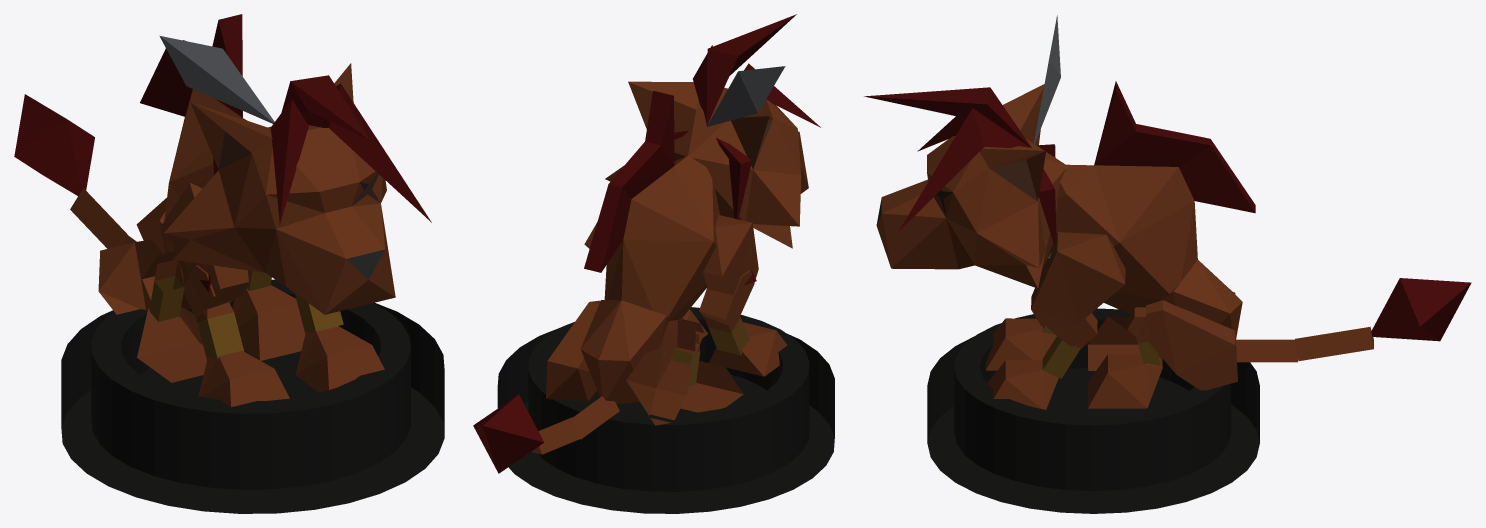
Rendered from Red.obj.
The picture shows the model from 3 angles, left to right: view 1: azimuth 30°, elevation 25°; view 2: azimuth 150°, elevation 25°; view 3: azimuth 270°, elevation 25°; orthographic projection. The views are drawn at different scales.
Visible parts, largest first — view 1: Mesh.033_Cylinder_Cylinder_Material.001, Mesh.014_Converte_0_96_43_.001_Converte_0_96_43_.001_96_43_1A.00, Mesh.032_Converte_0_96_43_.001_Converte_0_96_43_.001_66_05_05.00, Mesh.004_Converte_0_66_05__Converte_0_66_05__66_05_05.002, Mesh.006_Converte_0_96_43_.010_Converte_0_96_43_.014_96_43_1A.01, Mesh.025_Converte_0_96_43_.001_Converte_0_96_43_.001_85_88_8E, Mesh.018_Converte_0_96_43_.004_Converte_0_96_43_.005_96_43_1A.00, Mesh.005_Converte_0_96_43_.013_Converte_0_96_43_.012_96_43_1A.01, Mesh.013_Converte_0_96_43_.008_Converte_0_96_43_.009_96_43_1A.01, Mesh.001_Converte_0_96_43_.015_Converte_0_96_43_.015_96_43_1A.01, Mesh.021_Converte_0_66_05_05_Converte_0_66_05_05_66_05_05, Mesh.011_Converte_0_66_05_05_Converte_0_66_05_05_96_43_1A.001 (+11 smaller); view 2: Mesh.033_Cylinder_Cylinder_Material.001, Mesh.011_Converte_0_66_05_05_Converte_0_66_05_05_96_43_1A.001, Mesh.014_Converte_0_96_43_.001_Converte_0_96_43_.001_96_43_1A.00, Mesh.017_Converte_0_96_43_1A_Converte_0_96_43_1A_96_43_1A, Mesh.021_Converte_0_66_05_05_Converte_0_66_05_05_66_05_05, Mesh.032_Converte_0_96_43_.001_Converte_0_96_43_.001_66_05_05.00, Mesh.001_Converte_0_96_43_.015_Converte_0_96_43_.015_96_43_1A.01, Mesh.004_Converte_0_66_05__Converte_0_66_05__66_05_05.002, Mesh.030_Converte_0_96_43_.003_Converte_0_96_43_.010_96_43_1A.01, Mesh.026_Converte_0_96_43_.005_Converte_0_96_43_.006_96_43_1A.00, Mesh.025_Converte_0_96_43_.001_Converte_0_96_43_.001_85_88_8E, Mesh.013_Converte_0_96_43_.008_Converte_0_96_43_.009_96_43_1A.01 (+6 smaller); view 3: Mesh.033_Cylinder_Cylinder_Material.001, Mesh.014_Converte_0_96_43_.001_Converte_0_96_43_.001_96_43_1A.00, Mesh.011_Converte_0_66_05_05_Converte_0_66_05_05_96_43_1A.001, Mesh.032_Converte_0_96_43_.001_Converte_0_96_43_.001_66_05_05.00, Mesh.021_Converte_0_66_05_05_Converte_0_66_05_05_66_05_05, Mesh_Converte_0_96_43__Converte_0_96_43_.002_96_43_1A.003, Mesh.030_Converte_0_96_43_.003_Converte_0_96_43_.010_96_43_1A.01, Mesh.004_Converte_0_66_05__Converte_0_66_05__66_05_05.002, Mesh.006_Converte_0_96_43_.010_Converte_0_96_43_.014_96_43_1A.01, Mesh.017_Converte_0_96_43_1A_Converte_0_96_43_1A_96_43_1A, Mesh.018_Converte_0_96_43_.004_Converte_0_96_43_.005_96_43_1A.00, Mesh.013_Converte_0_96_43_.008_Converte_0_96_43_.009_96_43_1A.01 (+7 smaller).
Boxes of the visible parts, x1,y1,x2,y2 form: Mesh.033_Cylinder_Cylinder_Material.001: (61, 279, 444, 513); Mesh.014_Converte_0_96_43_.001_Converte_0_96_43_.001_96_43_1A.00: (164, 63, 395, 314); Mesh.032_Converte_0_96_43_.001_Converte_0_96_43_.001_66_05_05.00: (200, 75, 431, 291); Mesh.004_Converte_0_66_05__Converte_0_66_05__66_05_05.002: (14, 94, 94, 195); Mesh.006_Converte_0_96_43_.010_Converte_0_96_43_.014_96_43_1A.01: (232, 285, 305, 360); Mesh.025_Converte_0_96_43_.001_Converte_0_96_43_.001_85_88_8E: (159, 35, 274, 123); Mesh.018_Converte_0_96_43_.004_Converte_0_96_43_.005_96_43_1A.00: (295, 326, 384, 392); Mesh.005_Converte_0_96_43_.013_Converte_0_96_43_.012_96_43_1A.01: (137, 291, 206, 382); Mesh.013_Converte_0_96_43_.008_Converte_0_96_43_.009_96_43_1A.01: (198, 350, 289, 407); Mesh.001_Converte_0_96_43_.015_Converte_0_96_43_.015_96_43_1A.01: (98, 239, 178, 314); Mesh.021_Converte_0_66_05_05_Converte_0_66_05_05_66_05_05: (140, 14, 242, 117); Mesh.011_Converte_0_66_05_05_Converte_0_66_05_05_96_43_1A.001: (164, 89, 246, 220); Mesh.033_Cylinder_Cylinder_Material.001: (497, 307, 834, 513); Mesh.011_Converte_0_66_05_05_Converte_0_66_05_05_96_43_1A.001: (604, 155, 719, 321); Mesh.014_Converte_0_96_43_.001_Converte_0_96_43_.001_96_43_1A.00: (605, 81, 808, 248); Mesh.017_Converte_0_96_43_1A_Converte_0_96_43_1A_96_43_1A: (580, 300, 668, 403); Mesh.021_Converte_0_66_05_05_Converte_0_66_05_05_66_05_05: (584, 90, 674, 272); Mesh.032_Converte_0_96_43_.001_Converte_0_96_43_.001_66_05_05.00: (674, 14, 820, 285); Mesh.001_Converte_0_96_43_.015_Converte_0_96_43_.015_96_43_1A.01: (626, 320, 695, 425); Mesh.004_Converte_0_66_05__Converte_0_66_05__66_05_05.002: (473, 394, 544, 473); Mesh.030_Converte_0_96_43_.003_Converte_0_96_43_.010_96_43_1A.01: (546, 300, 600, 401); Mesh.026_Converte_0_96_43_.005_Converte_0_96_43_.006_96_43_1A.00: (703, 215, 758, 295); Mesh.025_Converte_0_96_43_.001_Converte_0_96_43_.001_85_88_8E: (707, 66, 785, 126); Mesh.013_Converte_0_96_43_.008_Converte_0_96_43_.009_96_43_1A.01: (709, 322, 787, 376); Mesh.033_Cylinder_Cylinder_Material.001: (927, 308, 1259, 513); Mesh.014_Converte_0_96_43_.001_Converte_0_96_43_.001_96_43_1A.00: (876, 84, 1066, 288); Mesh.011_Converte_0_66_05_05_Converte_0_66_05_05_96_43_1A.001: (1049, 164, 1197, 314); Mesh.032_Converte_0_96_43_.001_Converte_0_96_43_.001_66_05_05.00: (864, 87, 1056, 244); Mesh.021_Converte_0_66_05_05_Converte_0_66_05_05_66_05_05: (1094, 81, 1255, 213); Mesh_Converte_0_96_43__Converte_0_96_43_.002_96_43_1A.003: (1031, 232, 1125, 325); Mesh.030_Converte_0_96_43_.003_Converte_0_96_43_.010_96_43_1A.01: (1146, 300, 1237, 390); Mesh.004_Converte_0_66_05__Converte_0_66_05__66_05_05.002: (1371, 278, 1471, 341); Mesh.006_Converte_0_96_43_.010_Converte_0_96_43_.014_96_43_1A.01: (1087, 354, 1162, 408); Mesh.017_Converte_0_96_43_1A_Converte_0_96_43_1A_96_43_1A: (1163, 260, 1242, 339); Mesh.018_Converte_0_96_43_.004_Converte_0_96_43_.005_96_43_1A.00: (987, 359, 1058, 409); Mesh.013_Converte_0_96_43_.008_Converte_0_96_43_.009_96_43_1A.01: (985, 318, 1056, 370).
Size of the model in its own units: 47.04 by 59.54 by 86.11.
